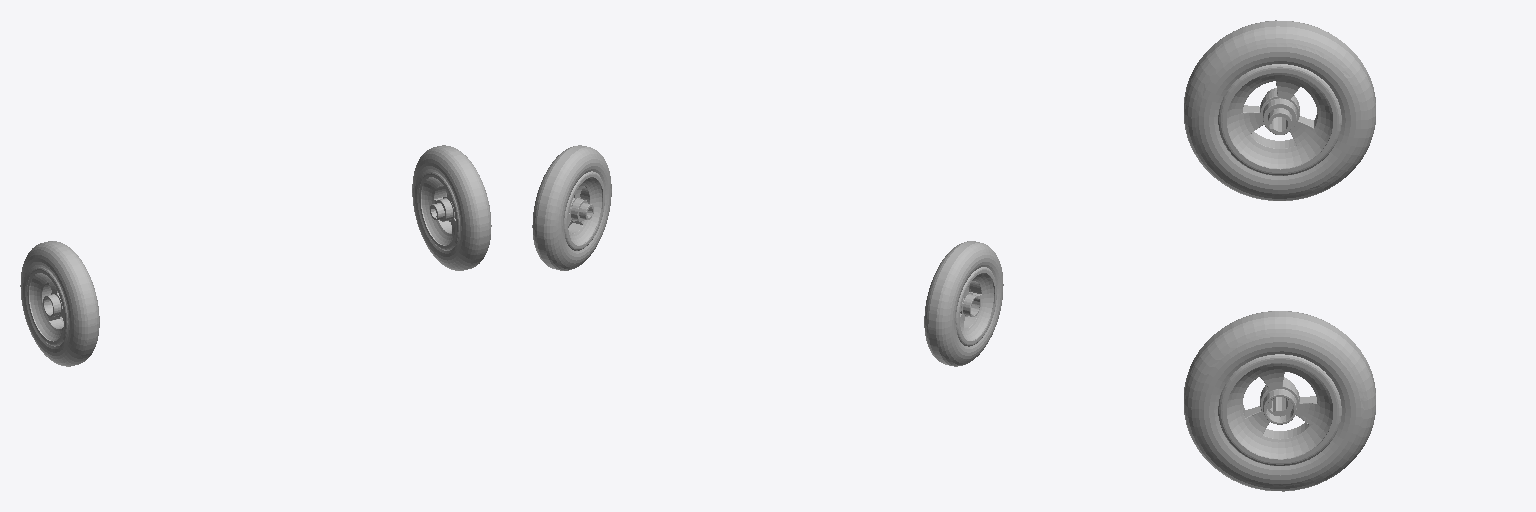
URDF robot description (UDRF_AMR_Model):
<?xml version="1.0" encoding="utf-8"?>
<!-- This URDF was automatically created by SolidWorks to URDF Exporter! Originally created by [author] ([email redacted]) 
     Commit Version: 1.6.0-4-g7f85cfe  Build Version: 1.6.7995.38578
     For more information, please see http://wiki.ros.org/sw_urdf_exporter -->
<robot
  name="UDRF_AMR_Model">
  <link
    name="base_link">
    <inertial>
      <origin
        xyz="-0.00591137033702896 0.124738363969582 0.122792068633473"
        rpy="0 0 0" />
      <mass
        value="14.2039932900445" />
      <inertia
        ixx="0.126970359206886"
        ixy="-1.44058897972358E-05"
        ixz="3.06481811968199E-06"
        iyy="0.191380250382105"
        iyz="-3.58356058956857E-05"
        izz="0.291678247232402" />
    </inertial>
    <visual>
      <origin
        xyz="0 0 0"
        rpy="0 0 0" />
      <geometry>
        <mesh
          filename="package://amr_sim/meshes/base_link.STL" />
      </geometry>
      <material
        name="">
        <color
          rgba="0.752941176470588 0.752941176470588 0.752941176470588 1" />
      </material>
    </visual>
    <collision>
      <origin
        xyz="0 0 0"
        rpy="0 0 0" />
      <geometry>
        <mesh
          filename="package://amr_sim/meshes/base_link.STL" />
      </geometry>
    </collision>
  </link>
  <link
    name="left_wheel">
    <inertial>
      <origin
        xyz="1.62295621941588E-06 -6.63779840731626E-06 0.0315072954675824"
        rpy="0 0 0" />
      <mass
        value="1.0510392293134" />
      <inertia
        ixx="0.0027577202396378"
        ixy="1.98398252861109E-09"
        ixz="-3.3971722585081E-10"
        iyy="0.00275782694016087"
        iyz="-7.0517109702979E-08"
        izz="0.00521469816808539" />
    </inertial>
    <visual>
      <origin
        xyz="0 0 0"
        rpy="0 0 0" />
      <geometry>
        <mesh
          filename="package://amr_sim/meshes/left_wheel.STL" />
      </geometry>
      <material
        name="">
        <color
          rgba="0.752941176470588 0.752941176470588 0.752941176470588 1" />
      </material>
    </visual>
    <collision>
      <origin
        xyz="0 0 0"
        rpy="0 0 0" />
      <geometry>
        <mesh
          filename="package://amr_sim/meshes/left_wheel.STL" />
      </geometry>
    </collision>
  </link>
  <joint
    name="left_wheel_joint"
    type="continuous">
    <origin
      xyz="0.31166 0.285 0.015"
      rpy="-1.5708 -0.82186 -1.5708" />
    <parent
      link="base_link" />
    <child
      link="left_wheel" />
    <axis
      xyz="0 0 1" />
  </joint>
  <link
    name="right_wheel">
    <inertial>
      <origin
        xyz="1.62281509219486E-06 -6.63853994181673E-06 0.0315072956645379"
        rpy="0 0 0" />
      <mass
        value="1.05103912477071" />
      <inertia
        ixx="0.00275772024623309"
        ixy="2.04542118268855E-09"
        ixz="-3.39121797359472E-10"
        iyy="0.00275782691111439"
        iyz="-7.0517957676402E-08"
        izz="0.00521469815221501" />
    </inertial>
    <visual>
      <origin
        xyz="0 0 0"
        rpy="0 0 0" />
      <geometry>
        <mesh
          filename="package://amr_sim/meshes/right_wheel.STL" />
      </geometry>
      <material
        name="">
        <color
          rgba="0.752941176470588 0.752941176470588 0.752941176470588 1" />
      </material>
    </visual>
    <collision>
      <origin
        xyz="0 0 0"
        rpy="0 0 0" />
      <geometry>
        <mesh
          filename="package://amr_sim/meshes/right_wheel.STL" />
      </geometry>
    </collision>
  </link>
  <joint
    name="right_wheel_joint"
    type="continuous">
    <origin
      xyz="-0.31166 0.285 0.015"
      rpy="-1.5708 1.2912 1.5708" />
    <parent
      link="base_link" />
    <child
      link="right_wheel" />
    <axis
      xyz="0 0 1" />
  </joint>
</robot>

--- What the picture shows (computed from the rendered views, not written in the file) ---
Views: 3 orthographic renders of the robot side by side, from view 1: azimuth 30°, elevation 25°; view 2: azimuth 150°, elevation 25°; view 3: azimuth 270°, elevation 25°.
Robot: UDRF_AMR_Model — 3 links, 2 joints (2 continuous); root link base_link; default pose: all joints at 0.
Links seen in each view (by area): view 1: left_wheel, right_wheel; view 2: left_wheel, right_wheel; view 3: right_wheel, left_wheel.
Link boxes in pixels (left/top/right/bottom): left_wheel: left=412, top=145, right=491, bottom=270; right_wheel: left=20, top=241, right=99, bottom=366; left_wheel: left=532, top=145, right=611, bottom=270; right_wheel: left=924, top=241, right=1003, bottom=366; right_wheel: left=1184, top=20, right=1375, bottom=200; left_wheel: left=1184, top=311, right=1375, bottom=491.
Size in the robot's own frame: 0.7346 by 0.1925 by 0.1925 metres.
Meshes: 3 distinct files referenced, 2 mesh visuals loaded (2 binary STL); not drawn: 1 (reference not matched to a file when rendering).